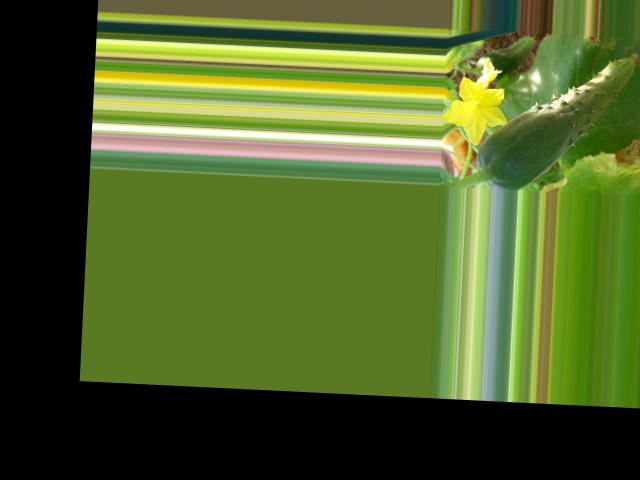cucumber: (474, 45, 639, 196)
